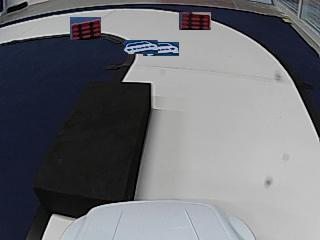block: (40, 83, 151, 205)
